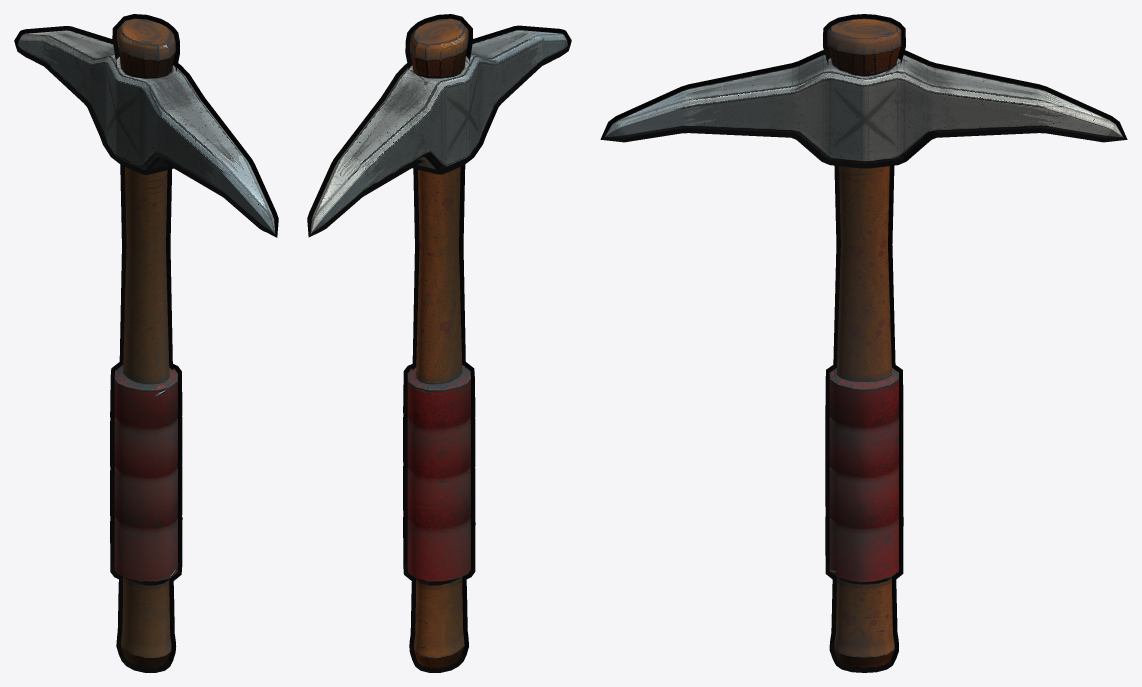
The model's file is Pickaxe.fbx.
The picture shows the model from 3 angles, left to right: view 1: azimuth 30°, elevation 25°; view 2: azimuth 150°, elevation 25°; view 3: azimuth 270°, elevation 25°; orthographic projection.
Visible parts, largest first — view 1: pCube3, outline; view 2: pCube3, outline; view 3: pCube3, outline.
Boxes of the visible parts, bbox=[...] form: pCube3: bbox=[17, 18, 275, 668]; outline: bbox=[14, 14, 278, 672]; pCube3: bbox=[310, 18, 568, 668]; outline: bbox=[307, 14, 571, 672]; pCube3: bbox=[604, 18, 1123, 668]; outline: bbox=[600, 14, 1127, 672].
Size of the model in its own units: 0.7798 by 7.14 by 5.33.
2 materials, 1 textured.
